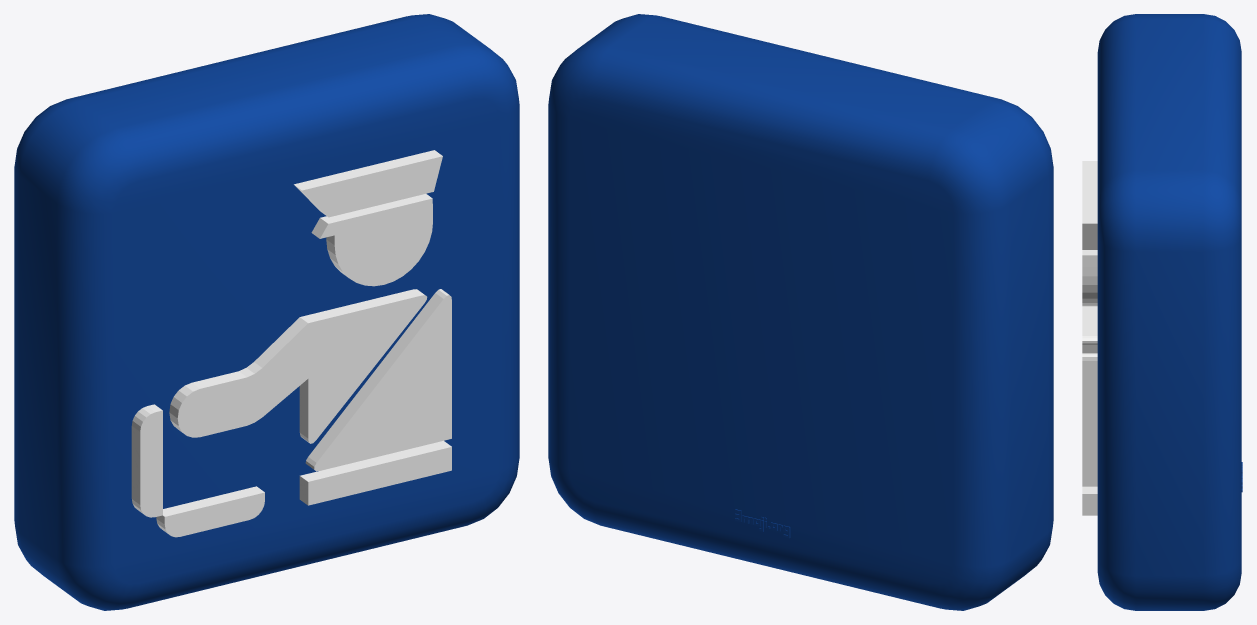
Rendered from customs.glb.
The picture shows the model from 3 angles, left to right: view 1: azimuth 30°, elevation 25°; view 2: azimuth 150°, elevation 25°; view 3: azimuth 270°, elevation 25°; orthographic projection. The views are drawn at different scales.
Visible parts, largest first — view 1: Cube.300; view 2: Cube.300; view 3: Cube.300.
Part boxes in pixels (left/top/right/bottom): Cube.300: left=14, top=14, right=519, bottom=610; Cube.300: left=548, top=14, right=1053, bottom=610; Cube.300: left=1082, top=14, right=1242, bottom=610.
Size of the model in its own units: 2.2 by 2.2 by 0.7337.
Materials: 1 (1 with a texture image).
